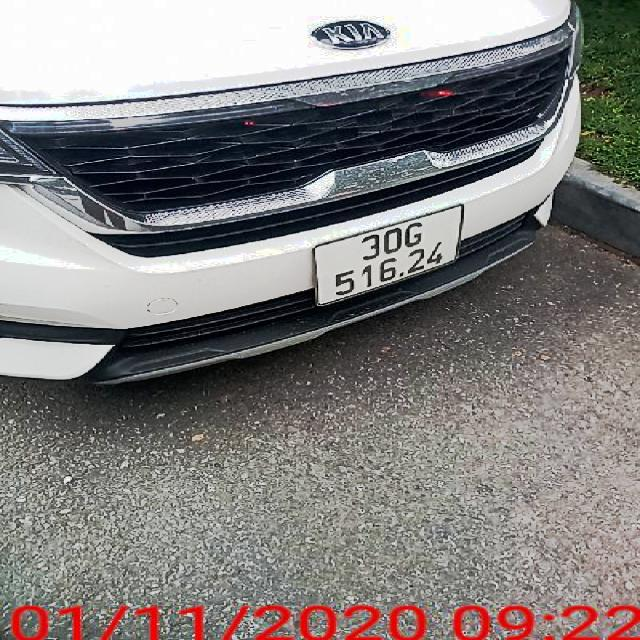license_plate: (317, 208, 463, 305)
